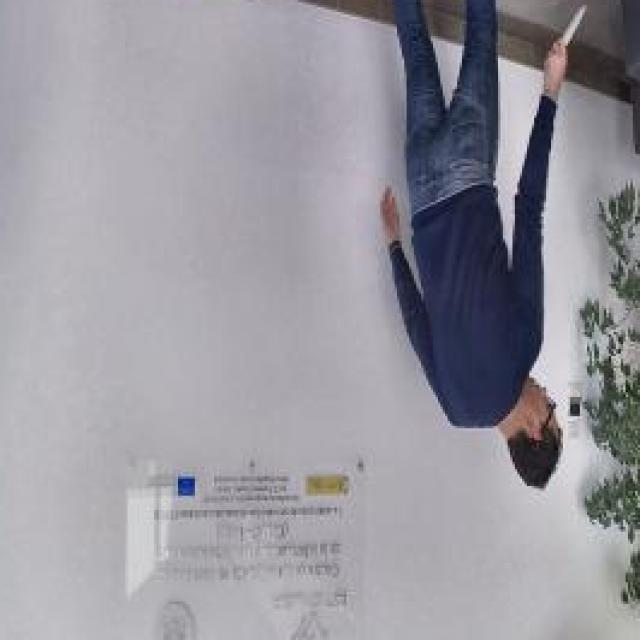knife: (548, 0, 590, 70)
